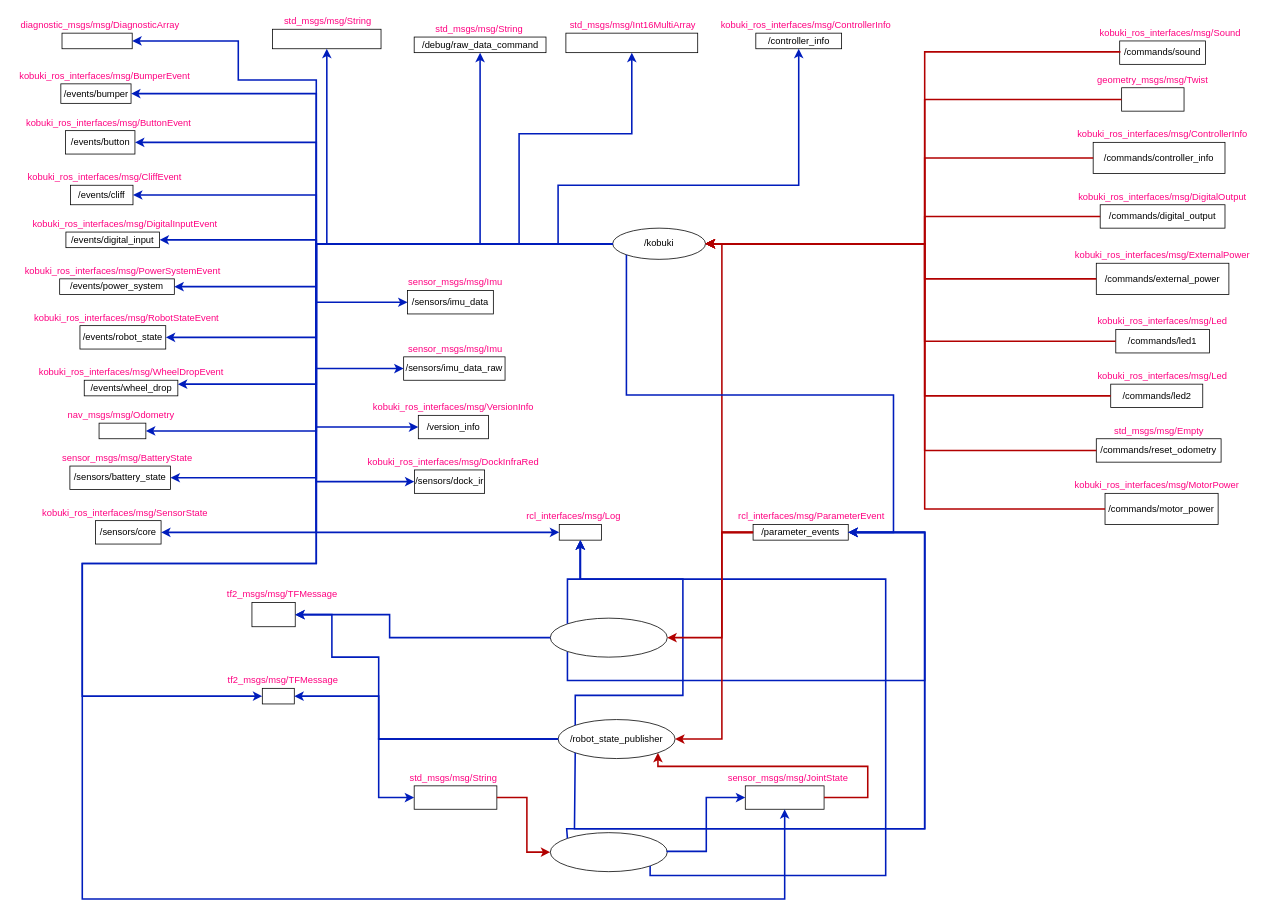
The diagram is 1273 pixels wide and 919 high, and some of its shapes have lost their labels. Each missing label, with the centre of its shape:
/cmd_vel: (1152,99)
/debug/raw_control_command: (631,42)
/debug/raw_data_stream: (326,38)
/diagnostics: (96,40)
/joint_state_publisher: (608,852)
/joint_states: (784,797)
/odom: (122,430)
/robot_description: (455,797)
/rosout: (579,532)
/static_transform_publisher: (608,637)
/tf: (278,696)
/tf_static: (273,614)
